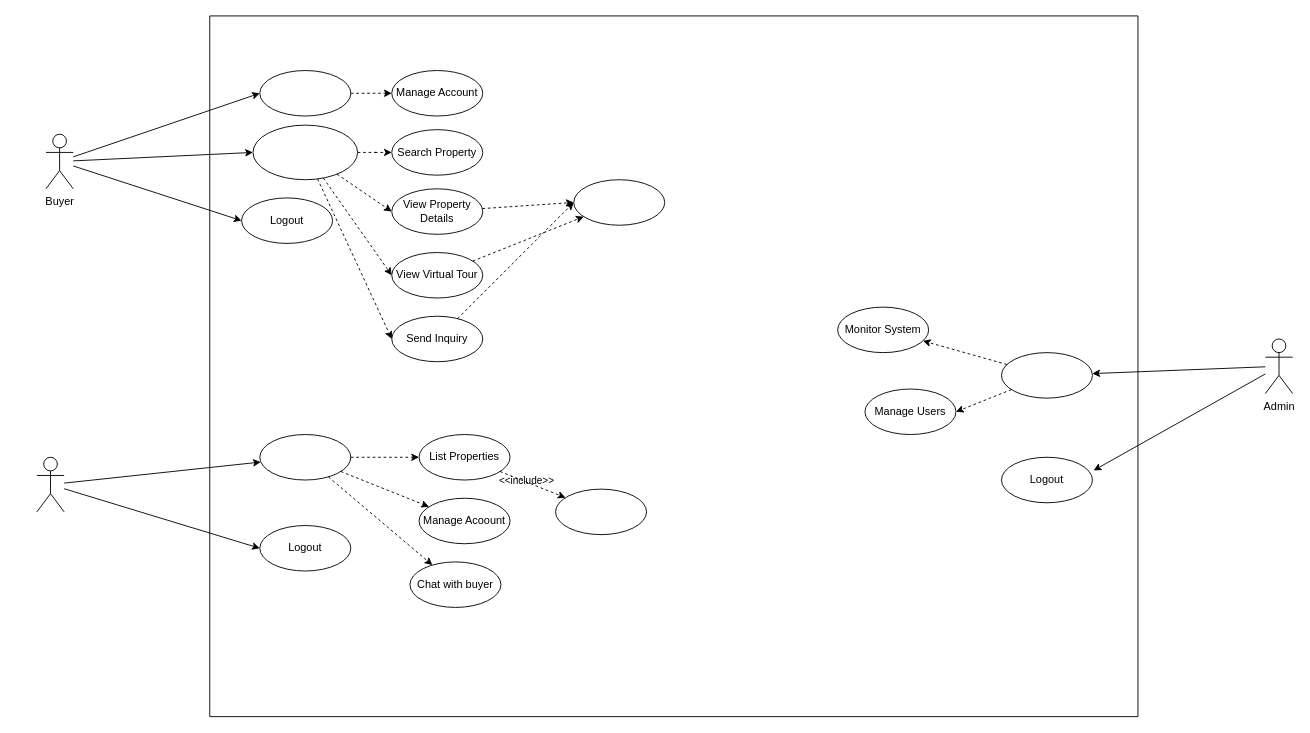
This 1310x733 diagram has some shape labels left out. The shapes that lost their labels are listed below. From the top down, each one's centre as x and y in pixels, then its label:
the point at 305,93: Log in / Sign Up
the point at 305,152: Browse properties
the point at 619,202: Chat with broker
the point at 1046,375: Login
the point at 305,457: Log in /Sign Up
the point at 50,484: Broker / Agent
the point at 601,511: Upload Static Room images
